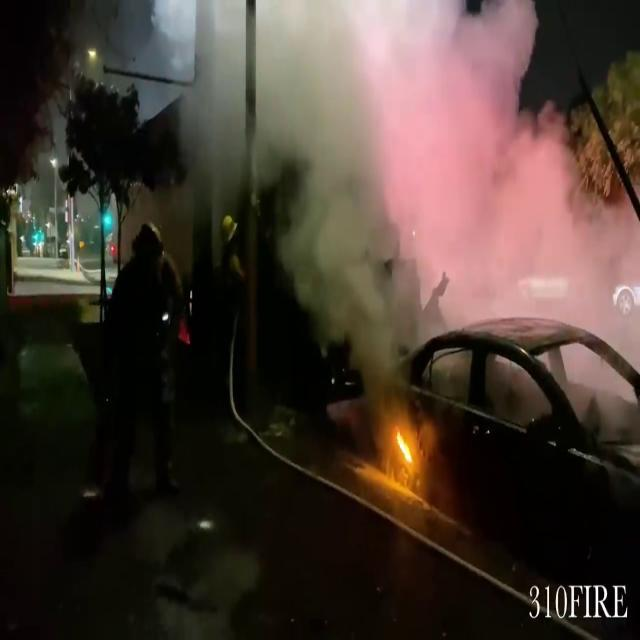Fire: (389, 416, 421, 481)
Smoke: (238, 0, 634, 314)
